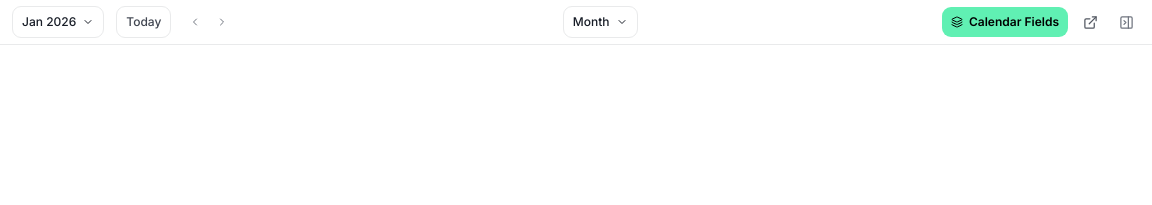
it: CalendarHeader › responsive behavior › uses view dropdown when container width is narrow
Expected: the element with class "hidden" is shown, left=12, top=6, right=1140, bottom=38
What coordinates should you click on to do the following:
click the button "Month"
I would click on:
 (600, 22)
Its box is left=563, top=6, right=638, bottom=38.
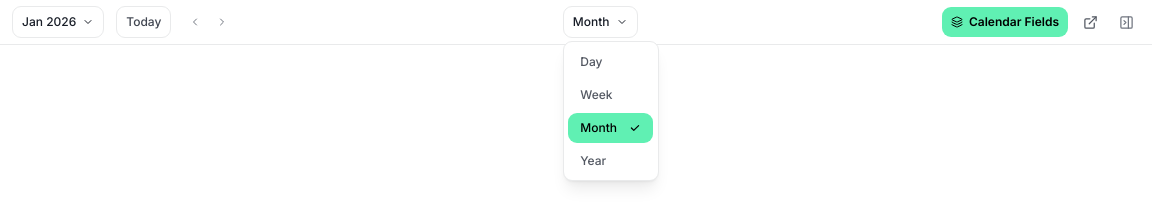
Expected: the element with class "left-0" is shown, left=563, top=41, right=659, bottom=181
Expected: the text "Day" is shown, left=580, top=52, right=602, bottom=70
